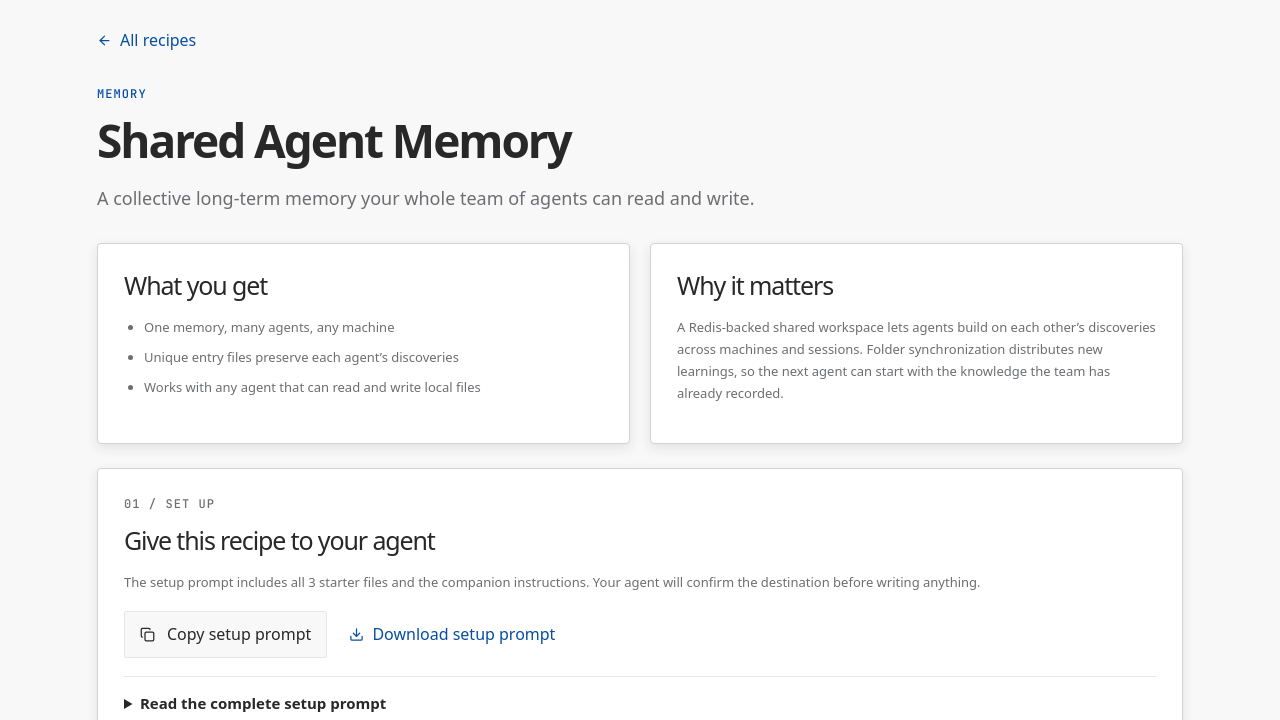
Test case: offers selectable text when clipboard access fails
Click the button "Copy setup prompt" at (226, 634), box [124,611,327,658]
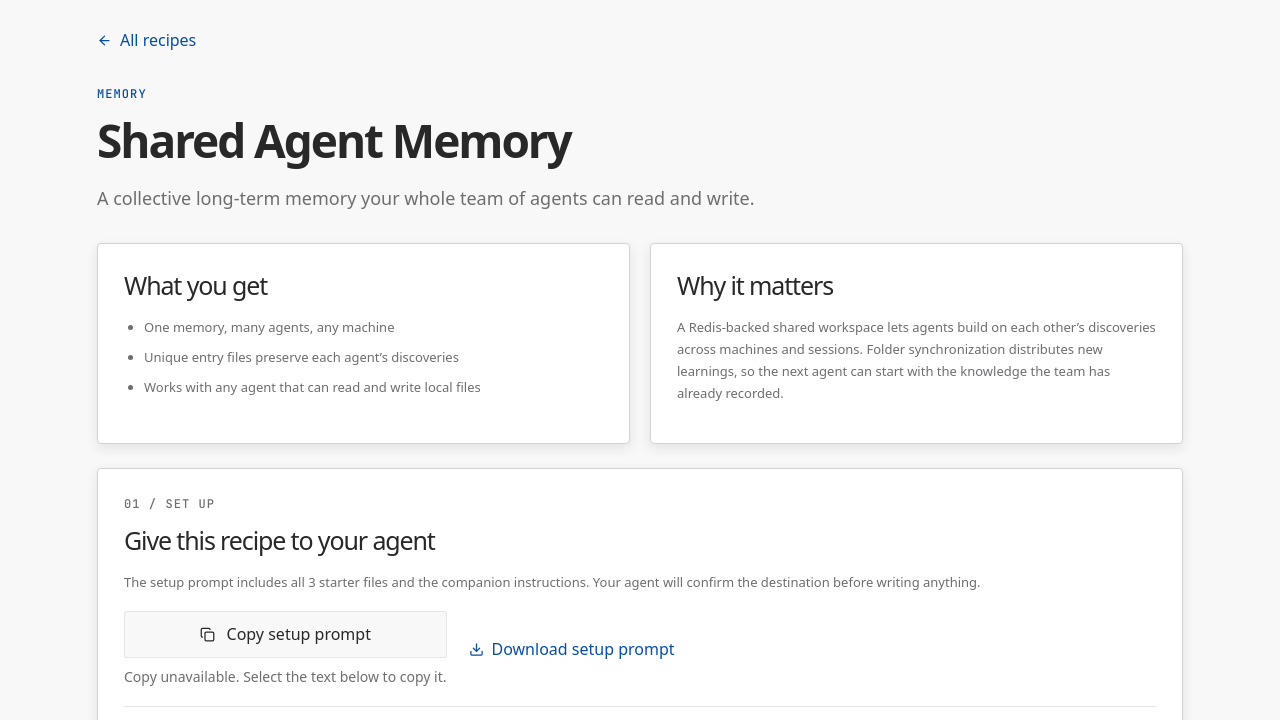
Expected: the button "Copy setup prompt" is shown, [124,611,446,658]
Now the text "Copy unavailable. Select the text below to copy it." is shown, box [124,666,446,688]
